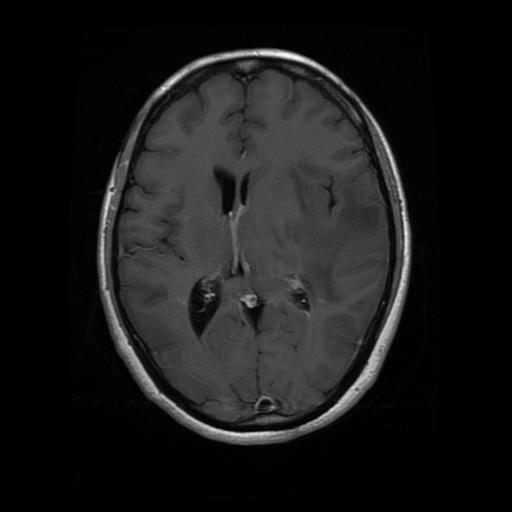Tumour-Glioma: (265, 197, 368, 289)
